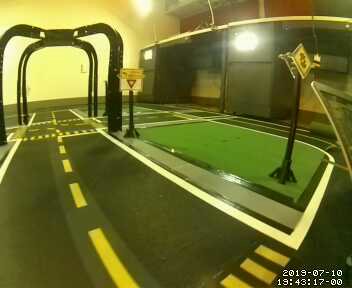Turn Yield: (118, 69, 144, 93)
